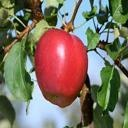apple: (34, 27, 89, 110)
